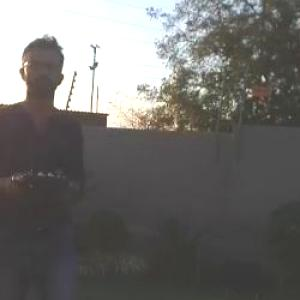follow: (0, 25, 95, 299)
